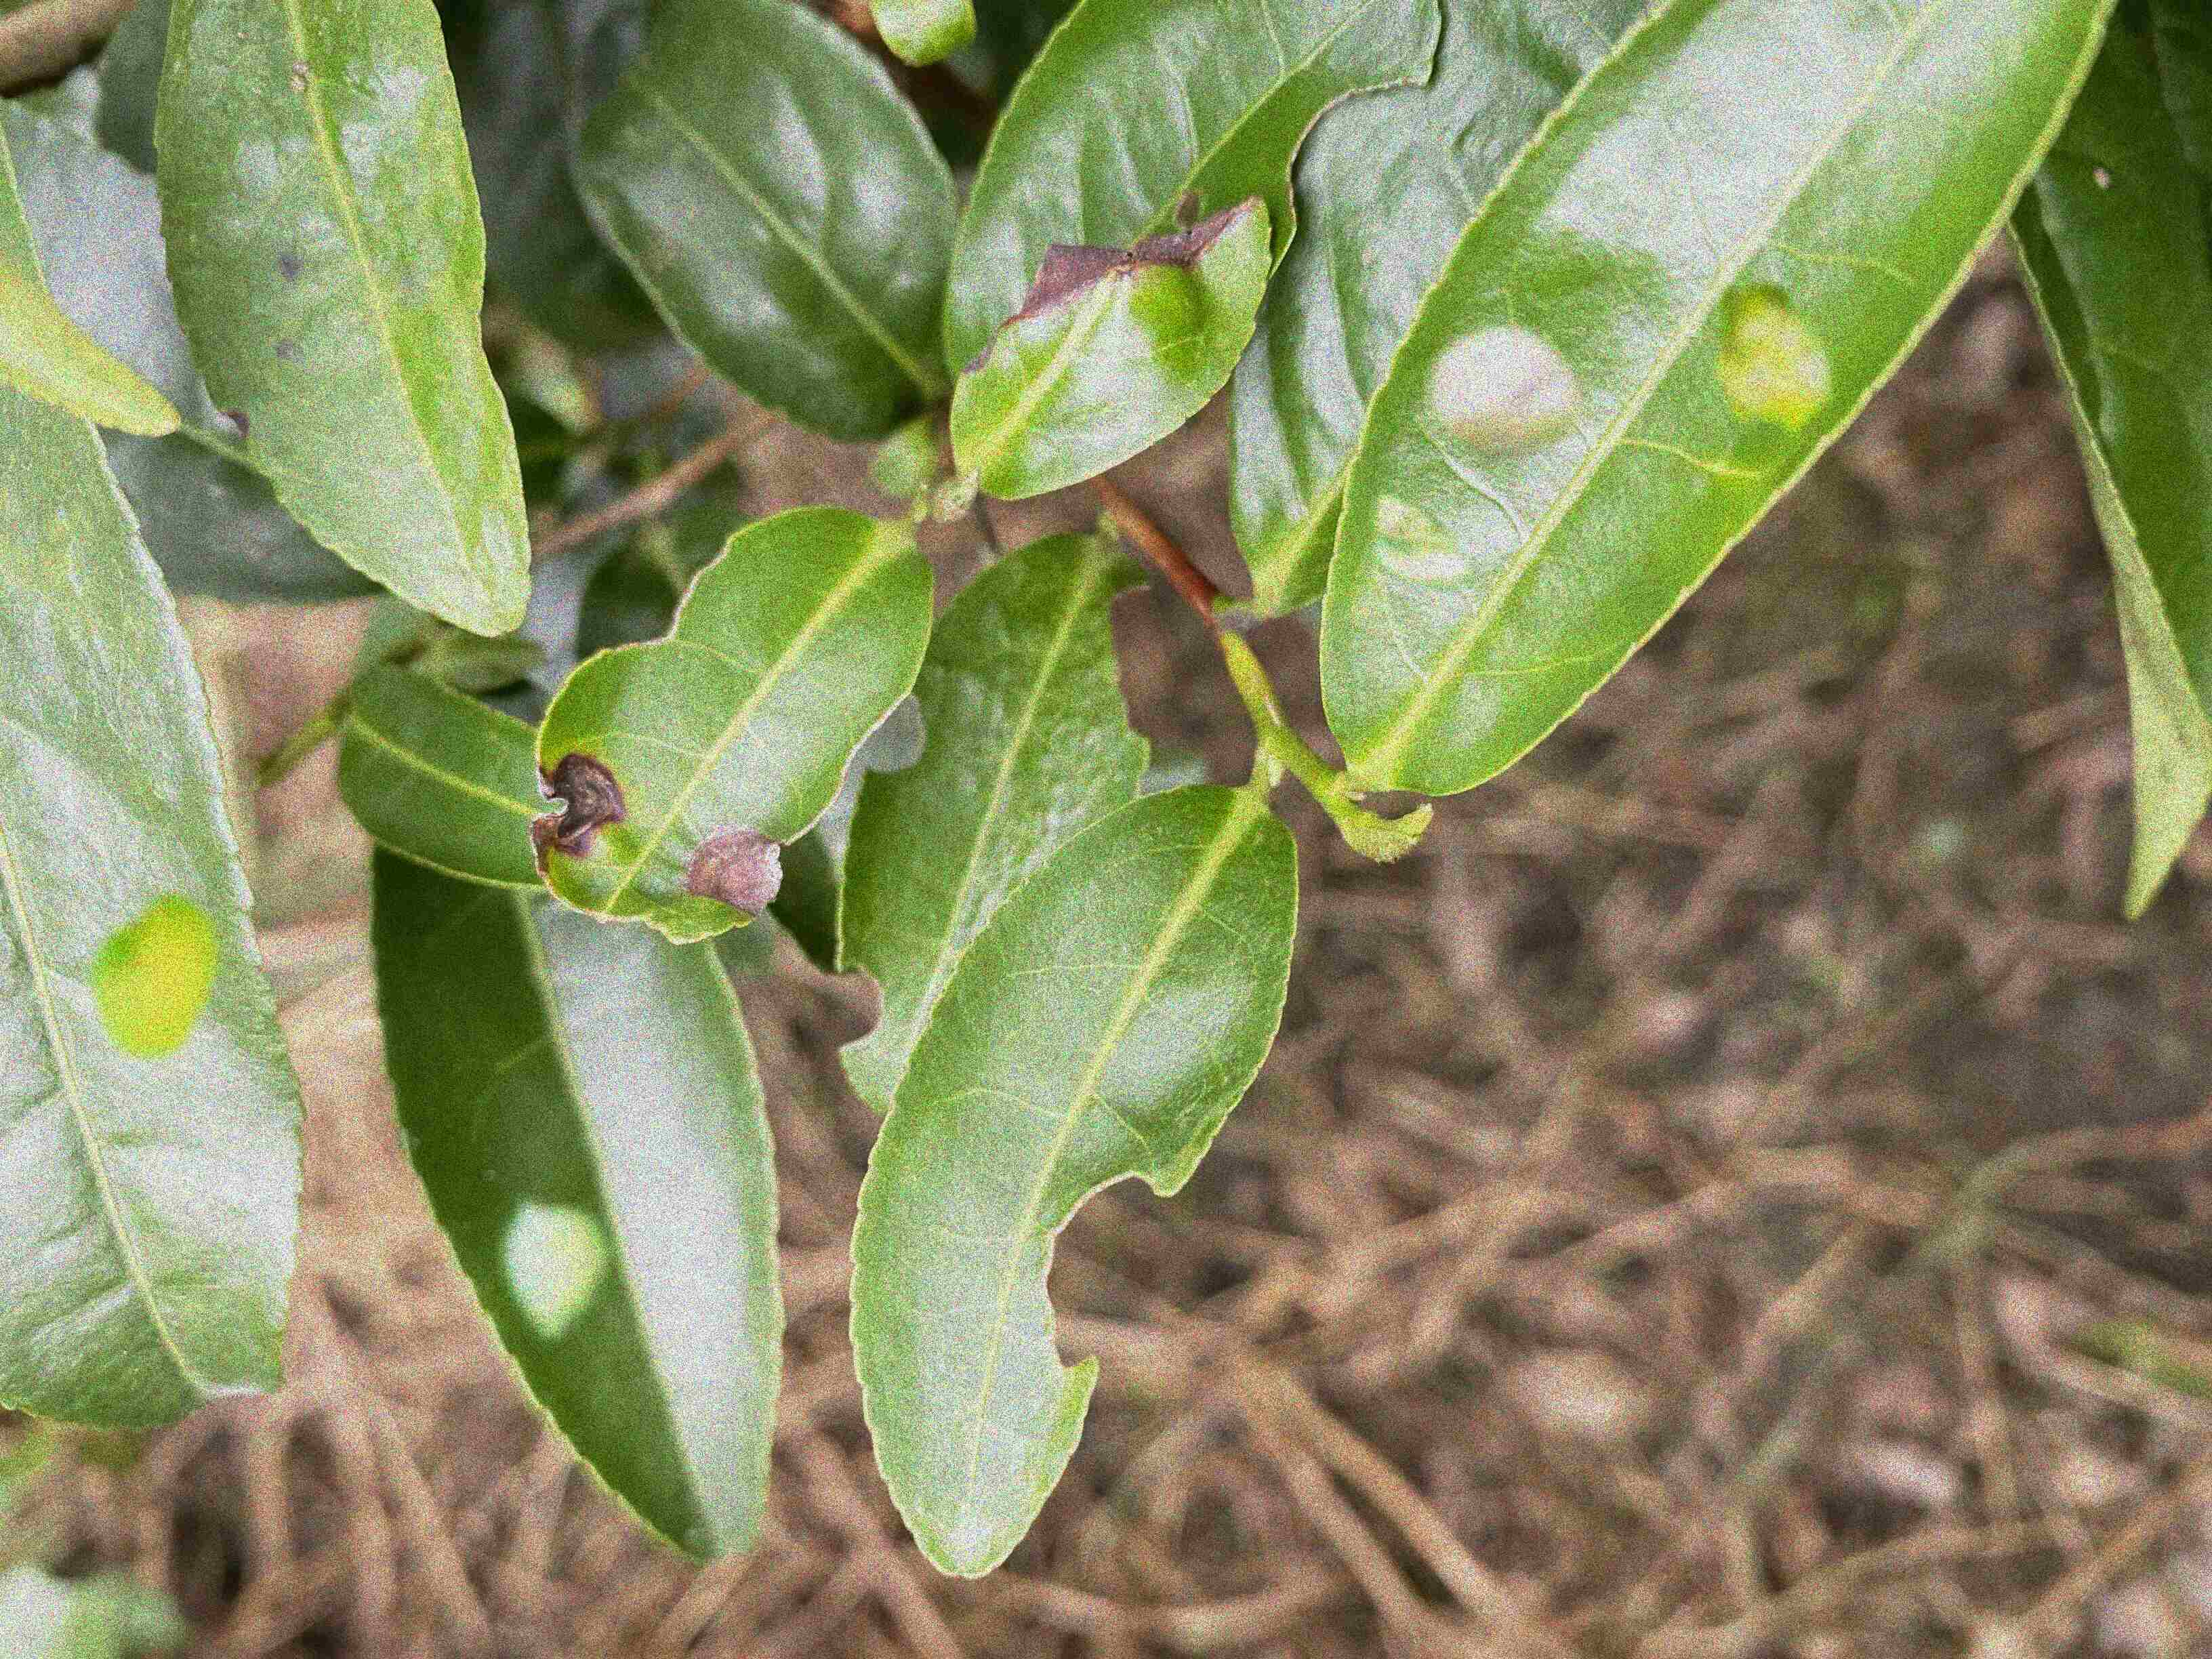chabing_high: (1320, 3, 2118, 800)
chabing_low: (2, 432, 305, 1431), (364, 915, 779, 1563)
chihuo_high: (833, 528, 1163, 1114)
chihuo_low: (846, 786, 1299, 1579)
tanju_high: (526, 505, 935, 946), (951, 197, 1271, 504)
tanju_low: (150, 3, 538, 638)
